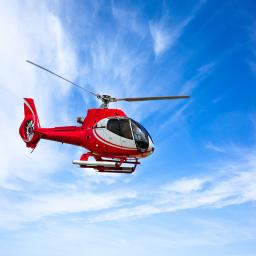helicopter: (18, 57, 196, 182)
